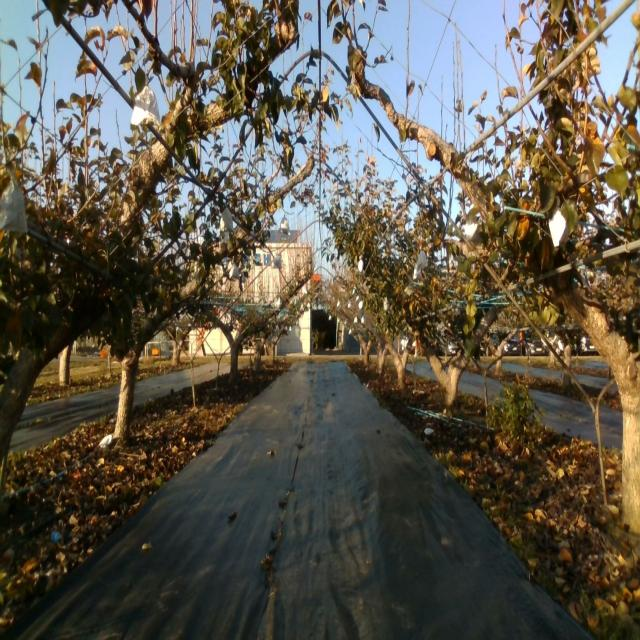pearbags: (0, 172, 28, 234), (130, 83, 161, 129), (548, 205, 568, 248), (464, 215, 479, 243), (218, 208, 234, 232), (277, 215, 291, 236), (417, 250, 428, 270)
